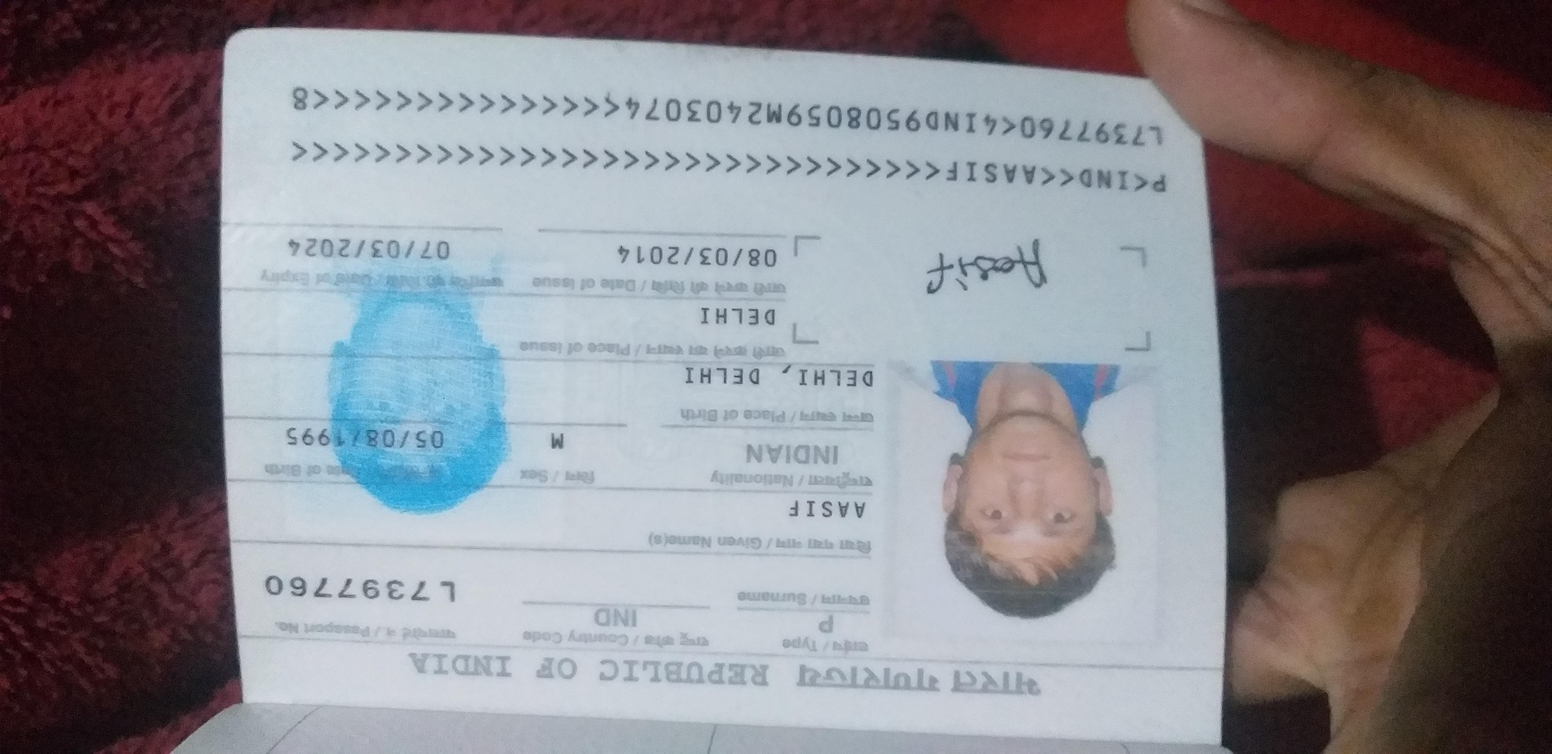DOB: (624, 133, 687, 218)
country_code: (256, 284, 312, 316)
date_of_expiry: (1005, 138, 1089, 222)
date_of_issue: (1000, 296, 1063, 381)
details: (1146, 128, 1354, 571)
name: (455, 379, 531, 425)
nationality: (580, 357, 658, 410)
passport_no: (305, 124, 381, 228)
photo: (224, 433, 801, 556)
place_of_birth: (737, 328, 801, 430)
place_of_issue: (861, 331, 952, 378)
sex: (610, 261, 690, 281)
sign: (919, 434, 1078, 520)
type: (240, 392, 297, 412)
